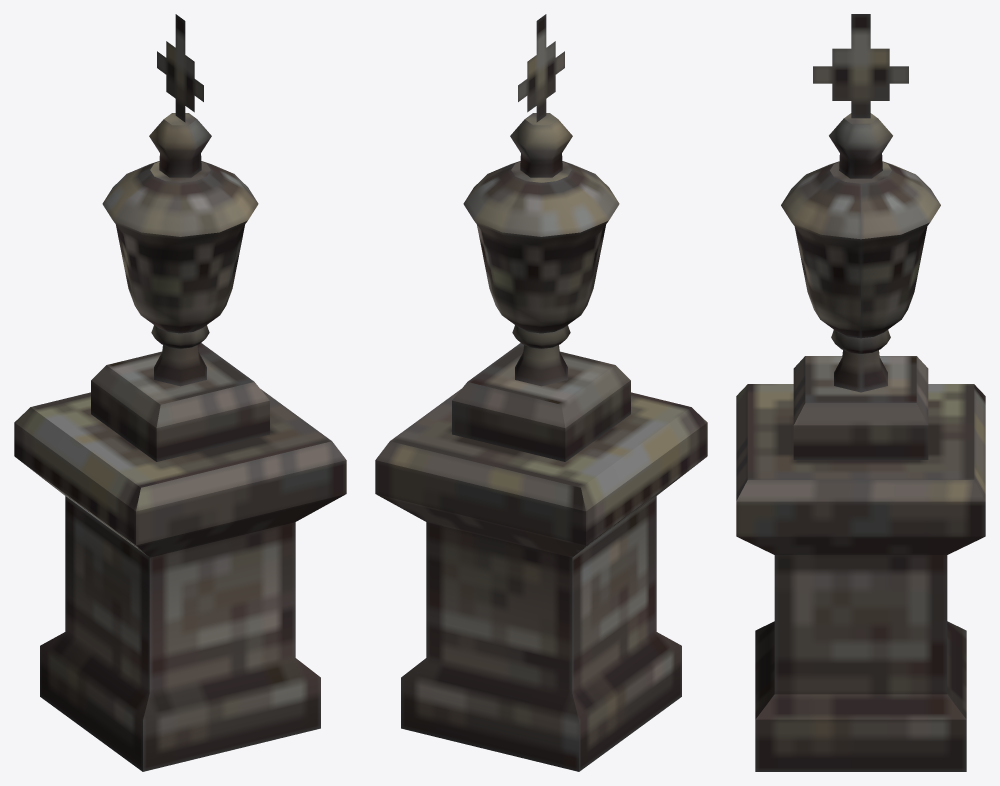
File: EnvBdgMD_Mansion_A_Outdoor_Fence_Post_A.FBX
3 renders of one model, left to right at view 1: azimuth 30°, elevation 25°; view 2: azimuth 150°, elevation 25°; view 3: azimuth 270°, elevation 25°, orthographic. The views are drawn at different scales.
Parts seen in each view (by area): view 1: EnvBdgMD_Mansion_A_Outdoor_Fence_Post_A; view 2: EnvBdgMD_Mansion_A_Outdoor_Fence_Post_A; view 3: EnvBdgMD_Mansion_A_Outdoor_Fence_Post_A.
Part boxes in pixels (x1,y1,x2,y2): EnvBdgMD_Mansion_A_Outdoor_Fence_Post_A: (14, 14, 346, 771); EnvBdgMD_Mansion_A_Outdoor_Fence_Post_A: (375, 14, 707, 771); EnvBdgMD_Mansion_A_Outdoor_Fence_Post_A: (736, 14, 985, 771).
Size of the model in its own units: 65 by 205 by 65.
1 material, 1 textured.
